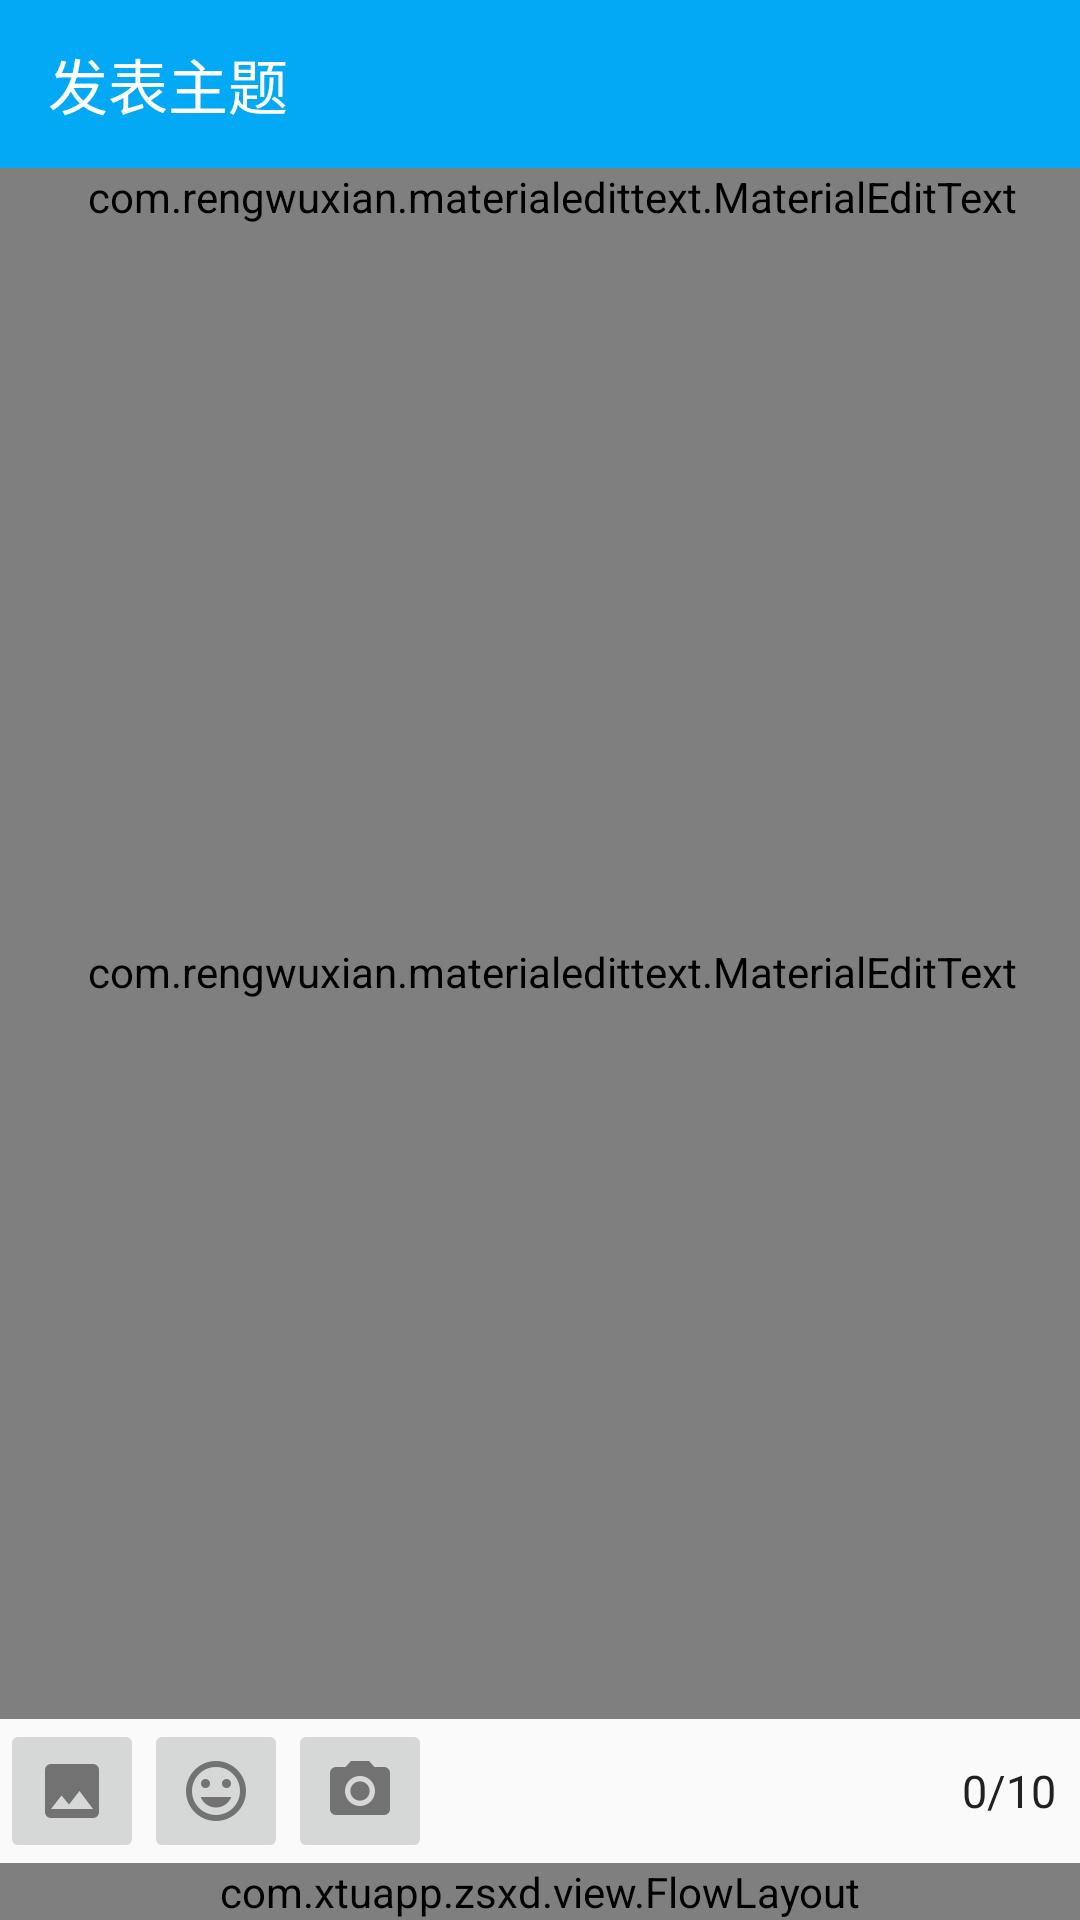

Named icons in this screenshot (1080*1920) and their bounding boxes, BBox(x1, y1, x2, y2):
camera indigo: BBox(300, 1737, 420, 1845)
photo indigo: BBox(12, 1737, 132, 1845)
tag faces indigo: BBox(156, 1737, 276, 1845)
